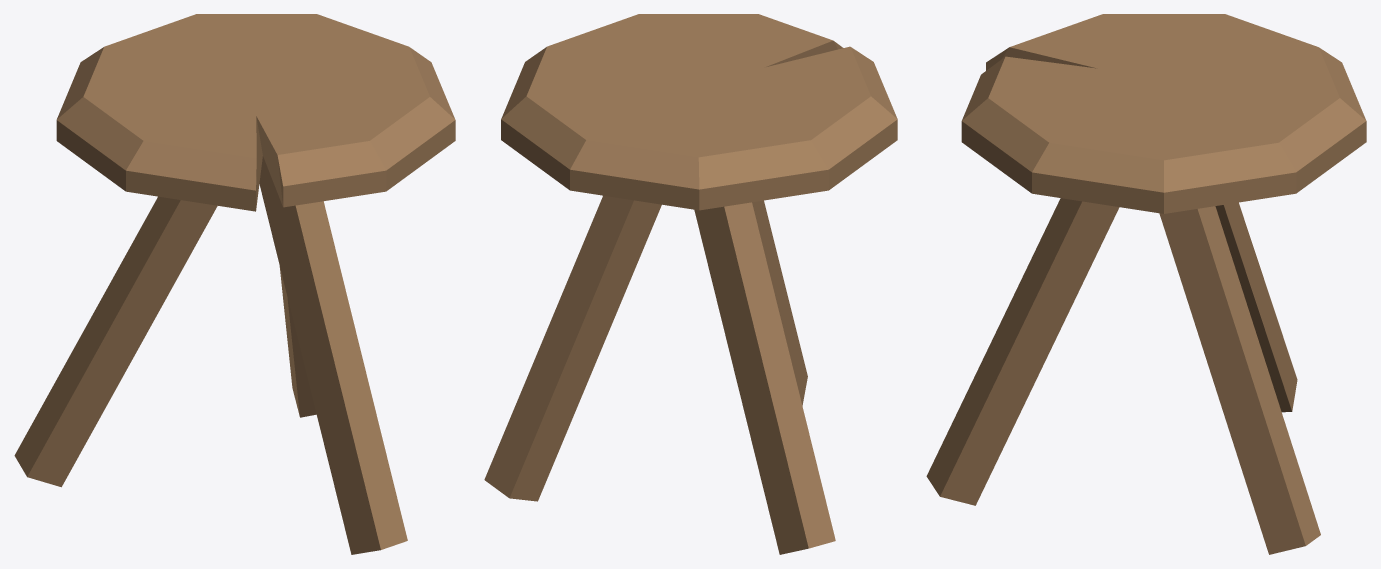
File: Stool.fbx
The picture shows the model from 3 angles, left to right: view 1: azimuth 30°, elevation 25°; view 2: azimuth 150°, elevation 25°; view 3: azimuth 270°, elevation 25°; orthographic projection. The views are drawn at different scales.
Parts seen in each view (by area): view 1: Hocker; view 2: Hocker; view 3: Hocker.
Boxes of the visible parts, left/top/right/bottom form: Hocker: left=14, top=14, right=455, bottom=554; Hocker: left=484, top=14, right=897, bottom=554; Hocker: left=926, top=14, right=1366, bottom=554.
Size of the model in its own units: 37.44 by 40.14 by 39.22.
